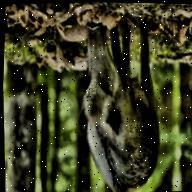boar: (70, 15, 166, 192)
